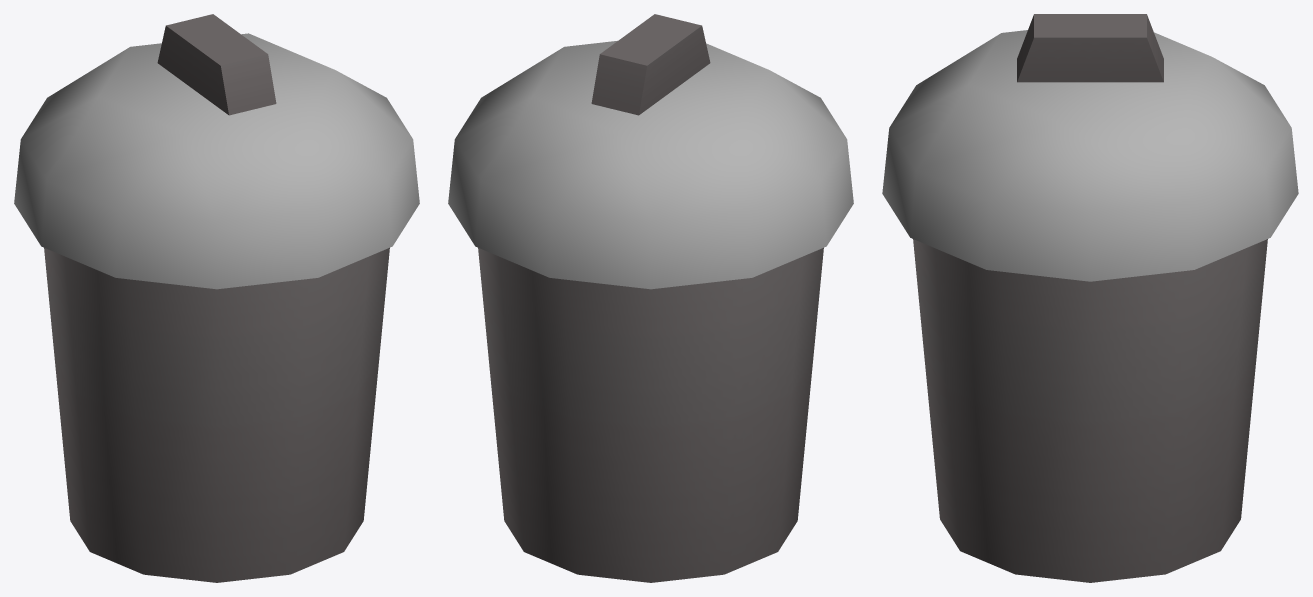
Rendered from Trash_Can_1A.fbx.
3 views of the same model, side by side, from view 1: azimuth 30°, elevation 25°; view 2: azimuth 150°, elevation 25°; view 3: azimuth 270°, elevation 25° (orthographic). The views are drawn at different scales.
Parts seen in each view (by area): view 1: Trash_Can_1A; view 2: Trash_Can_1A; view 3: Trash_Can_1A.
Boxes of the visible parts, x1,y1,x2,y2 form: Trash_Can_1A: (14,14,419,582); Trash_Can_1A: (448,14,853,582); Trash_Can_1A: (882,14,1298,582).
Size of the model in its own units: 2128 by 2783 by 2128.
